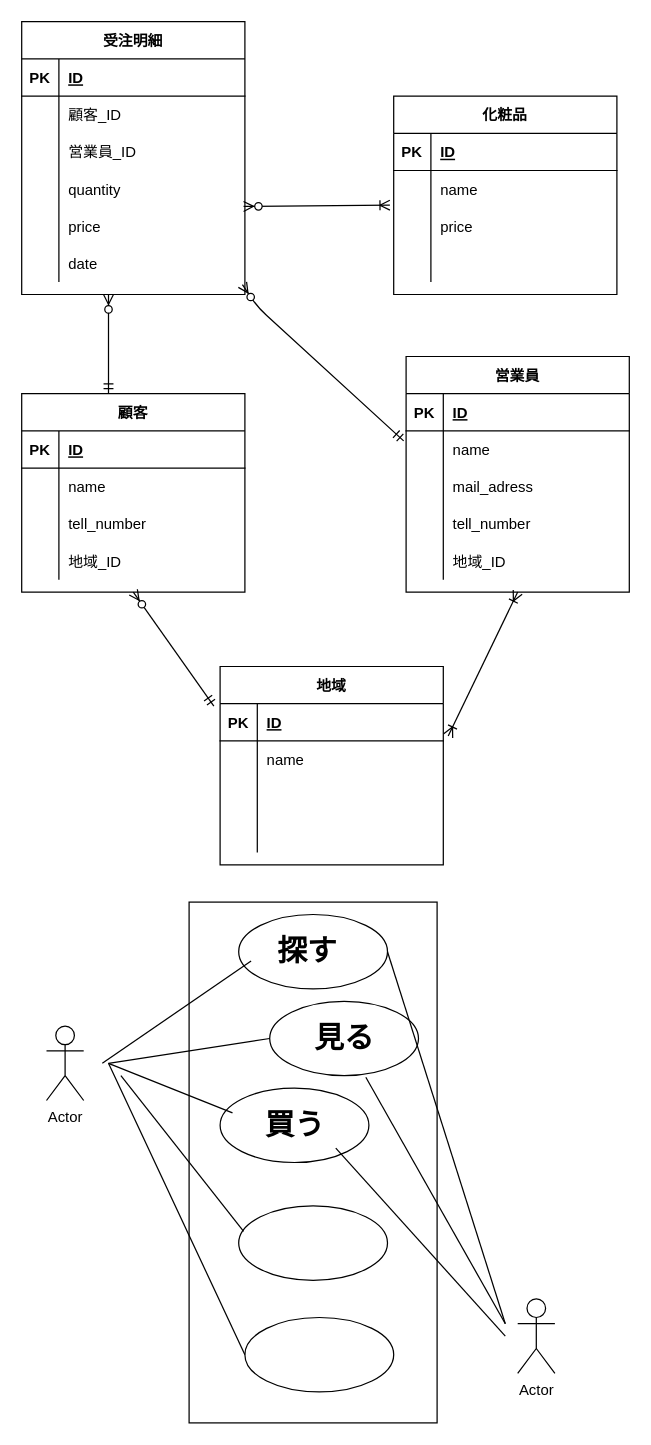
Image size: 651x1445. Some labels were removed from this diagram. Here are the shapes that lost their labels. From the top down, the centre of each, then its label:
At (x=312, y=1242): "登録する".
At (x=319, y=1354): "発送する".
